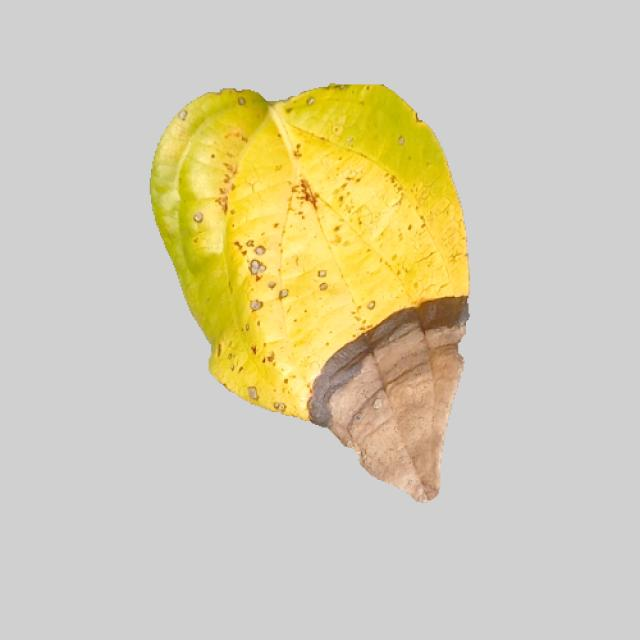leaf-blight: (141, 83, 467, 501)
